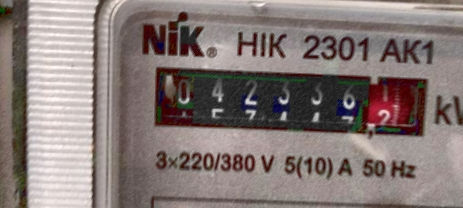0: (174, 77, 191, 106)
1: (377, 81, 390, 104)
2: (242, 77, 259, 106), (374, 107, 391, 126)
3: (306, 77, 323, 107), (274, 77, 290, 106)
4: (208, 74, 226, 104)
6: (340, 80, 358, 111)
screen: (140, 53, 440, 148)
